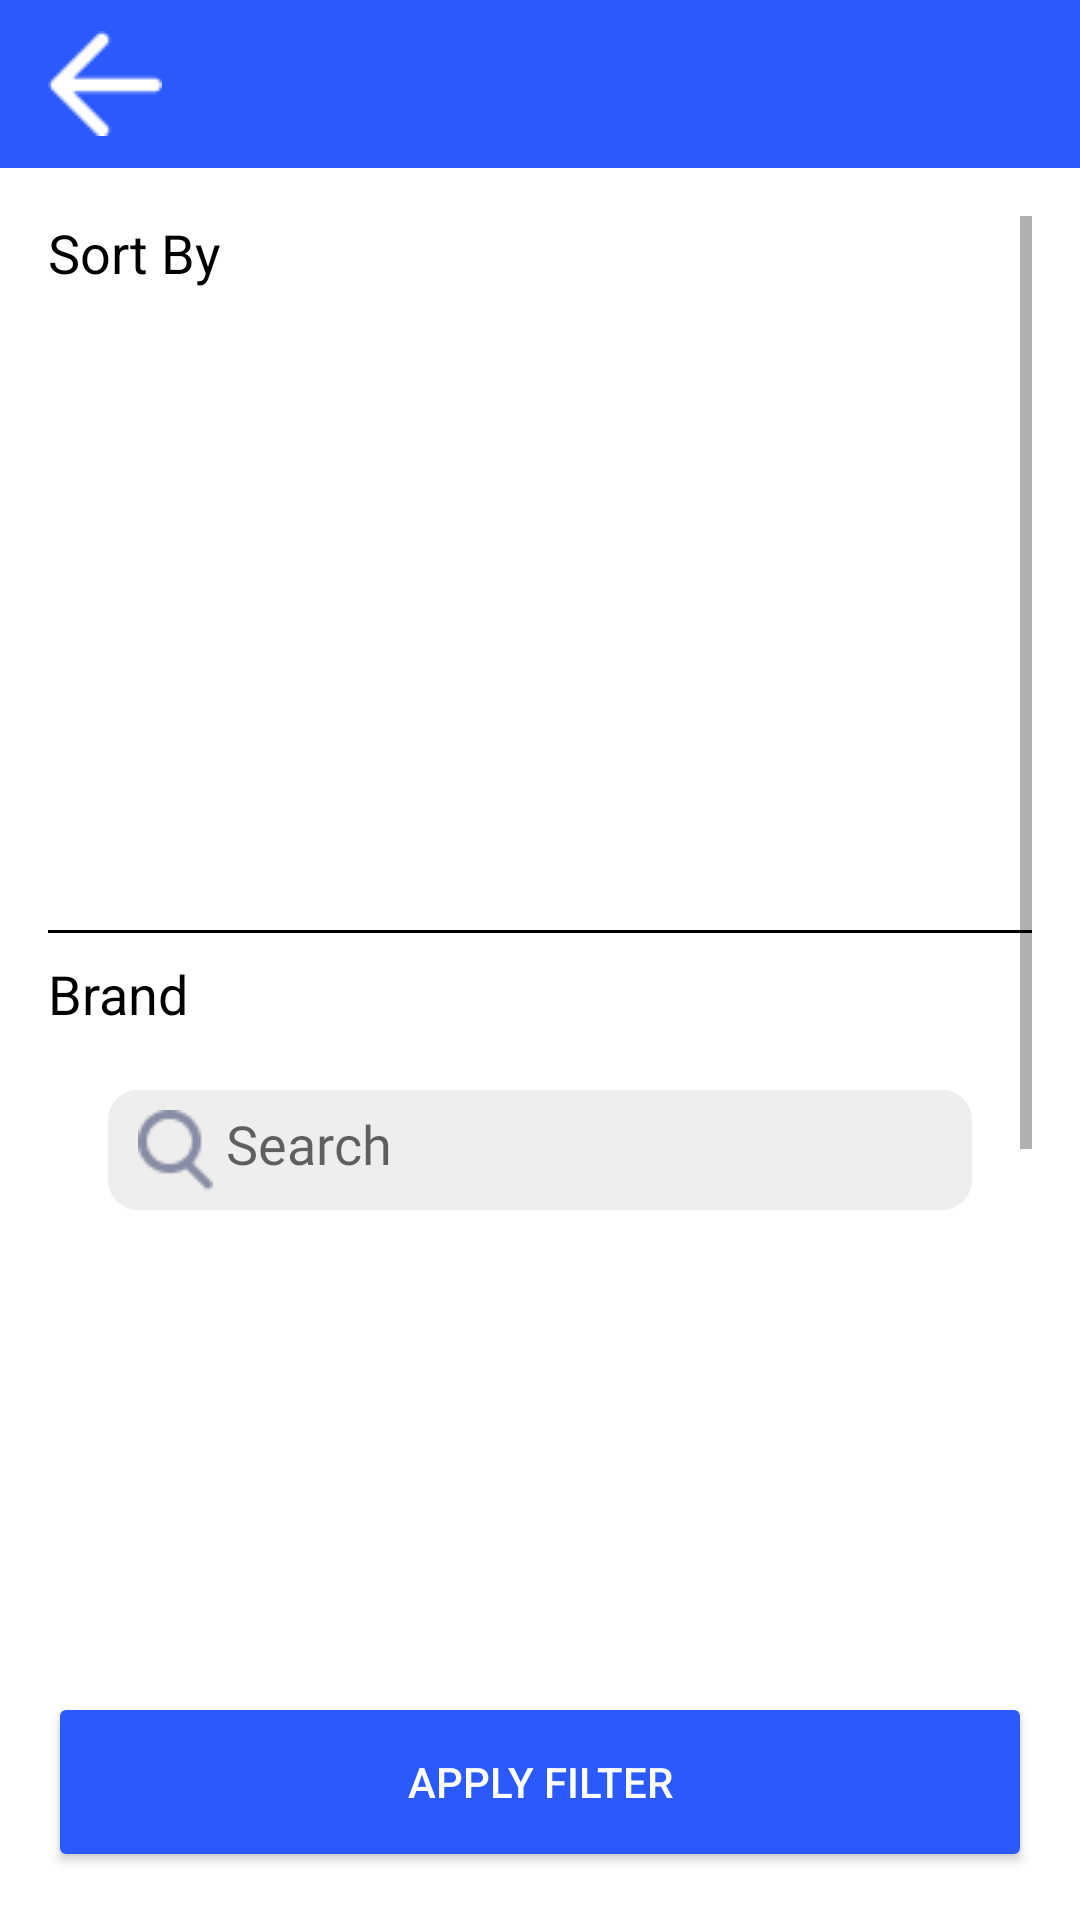

Named icons in this screenshot (1080×1920) and their centers, (x,y):
back: (105,83)
